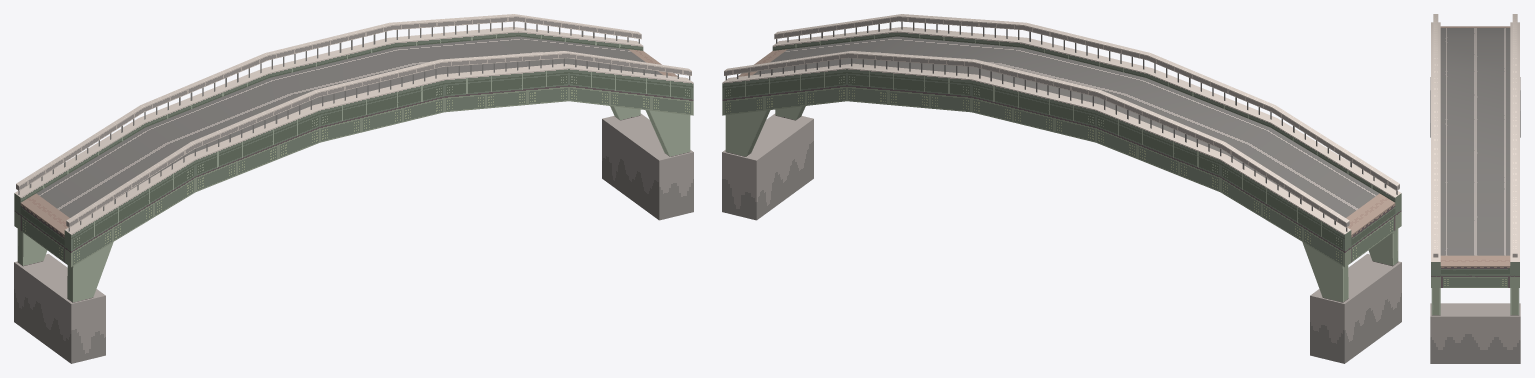
The model's file is 0572_Sunglass_Bridge.glb.
3 views of the same model, side by side, from view 1: azimuth 30°, elevation 25°; view 2: azimuth 150°, elevation 25°; view 3: azimuth 270°, elevation 25° (orthographic). The views are drawn at different scales.
Visible parts, largest first — view 1: part_0; view 2: part_0; view 3: part_0.
Boxes of the visible parts, <box> form: part_0: <box>14,14,693,363</box>; part_0: <box>722,14,1401,363</box>; part_0: <box>1430,14,1520,363</box>.
Size of the model in its own units: 81.63 by 26.26 by 13.
1 material, 1 textured.
